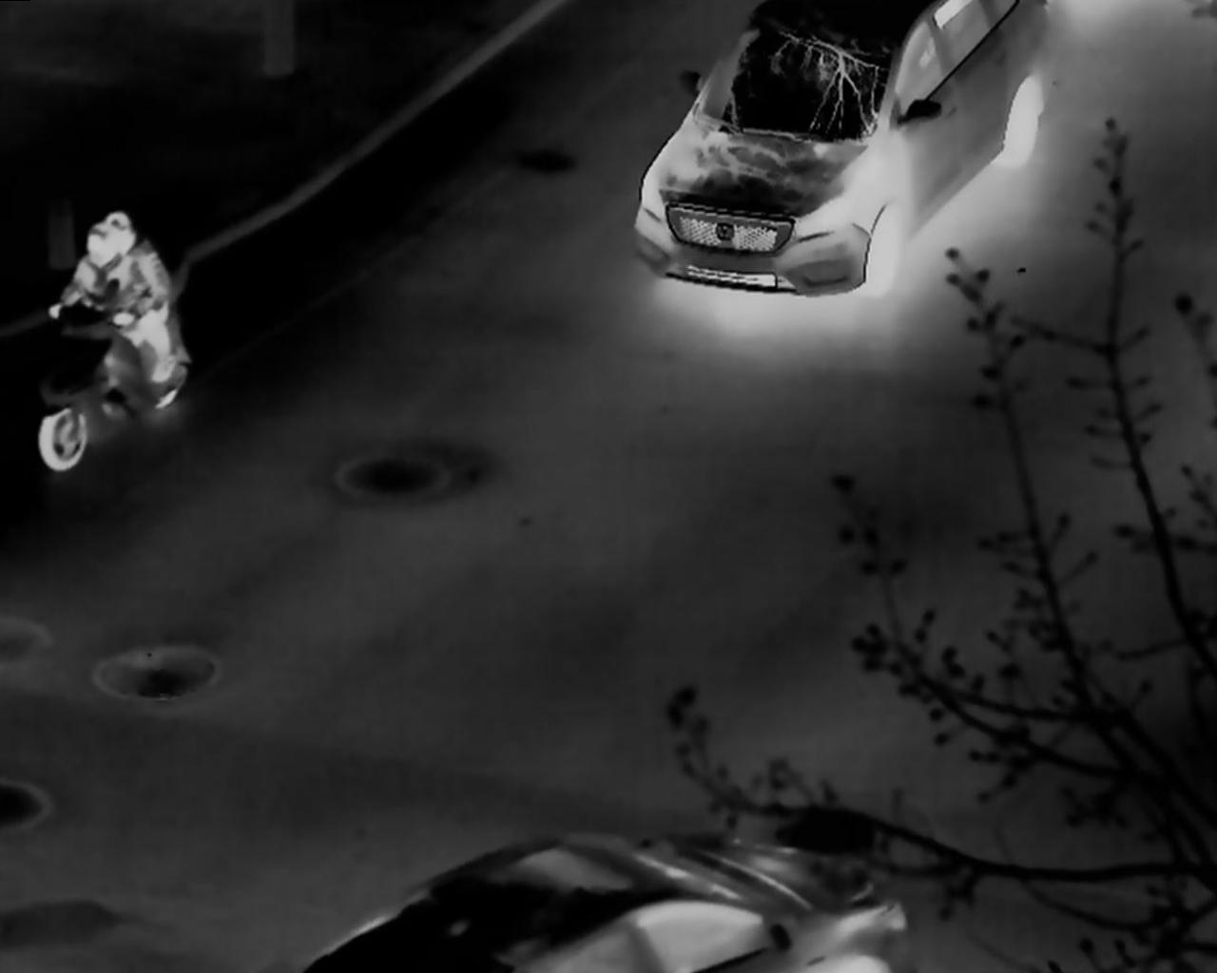person: (48, 224, 162, 386), (94, 209, 177, 386)
